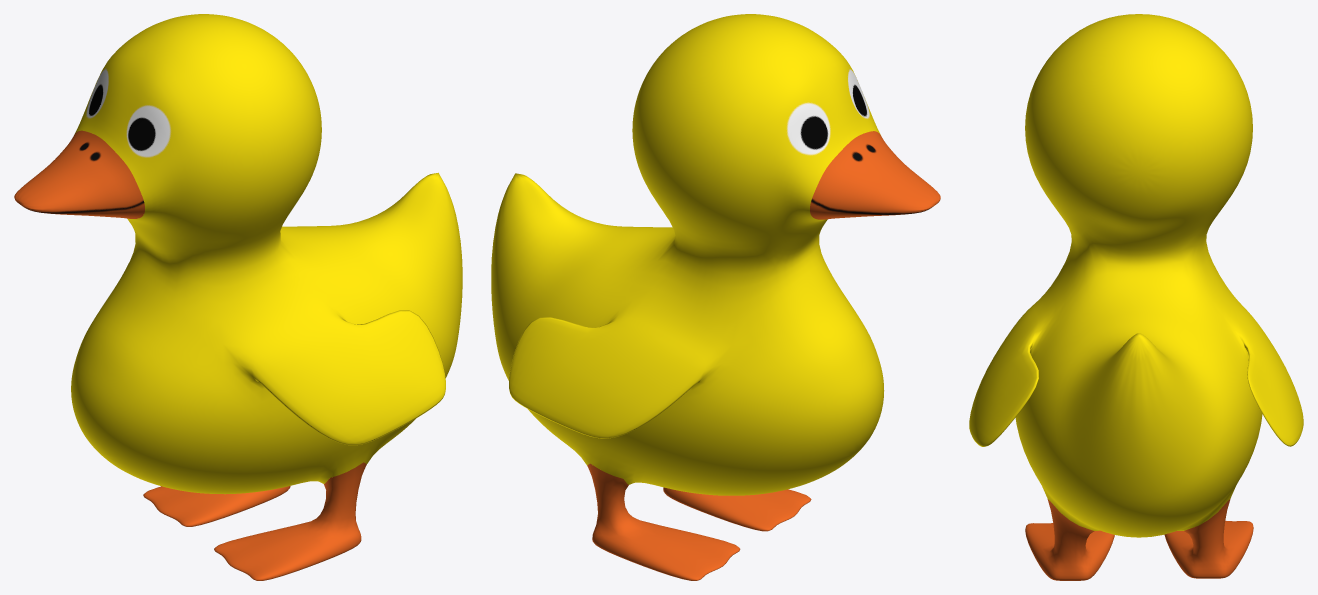
Rendered from Duck.glb.
3 views of the same model, side by side, from view 1: azimuth 30°, elevation 25°; view 2: azimuth 150°, elevation 25°; view 3: azimuth 270°, elevation 25° (orthographic). The views are drawn at different scales.
Parts seen in each view (by area): view 1: ducky_0; view 2: ducky_0; view 3: ducky_0.
Part boxes in pixels (bbox=[...]): ducky_0: bbox=[14, 14, 462, 580]; ducky_0: bbox=[491, 14, 940, 580]; ducky_0: bbox=[969, 14, 1303, 580].
Size of what is drawn, in the model's own units: 0.5001 by 0.5649 by 0.3401.
Materials: 2 (2 with a texture image).
